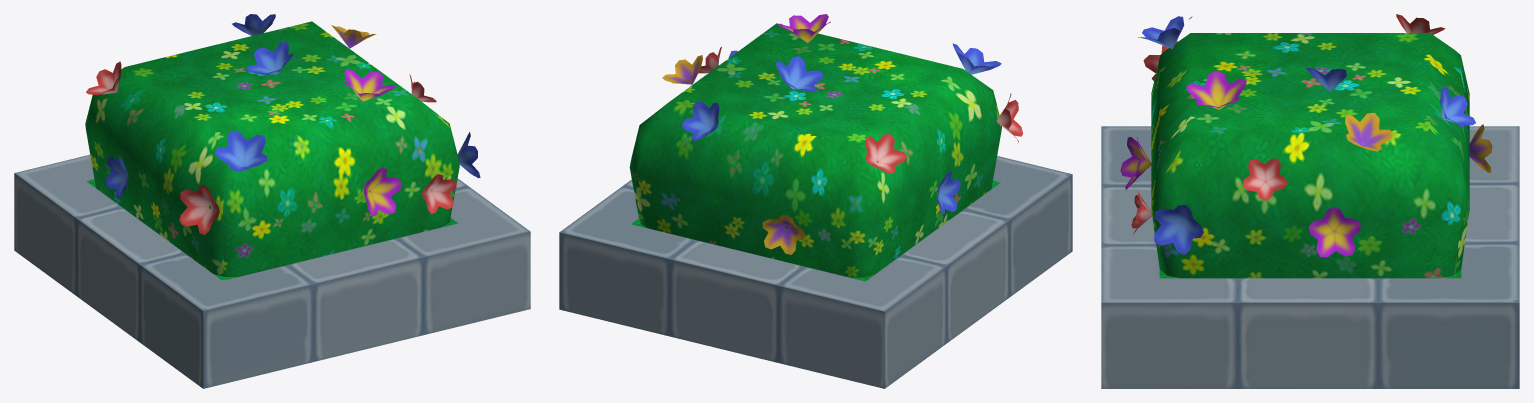
Rendered from VEG0310039.fbx.
The picture shows the model from 3 angles, left to right: view 1: azimuth 30°, elevation 25°; view 2: azimuth 150°, elevation 25°; view 3: azimuth 270°, elevation 25°; orthographic projection. The views are drawn at different scales.
Parts seen in each view (by area): view 1: smVEG0310039; view 2: smVEG0310039; view 3: smVEG0310039.
Boxes of the visible parts, x1,y1,x2,y2 form: smVEG0310039: (14,14,530,388); smVEG0310039: (559,14,1072,388); smVEG0310039: (1101,14,1519,388).
Bounding box in the file's own units: 127 × 82.5 × 127.
Materials: 1 (1 with a texture image).
